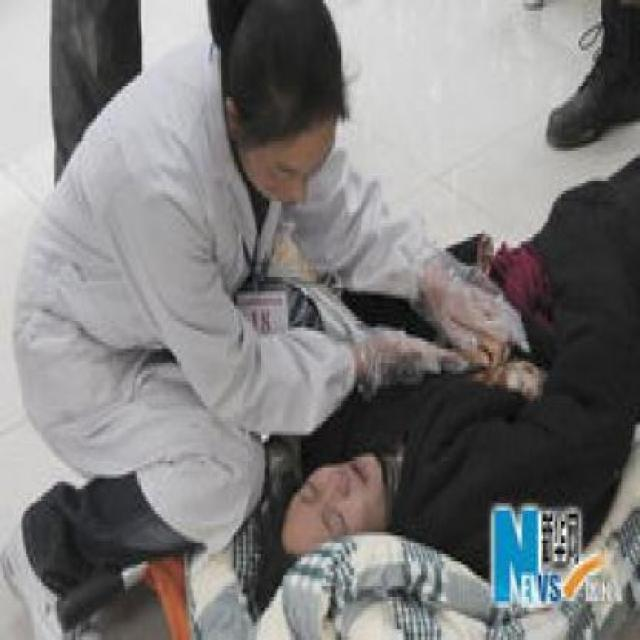fall: (265, 14, 632, 618)
